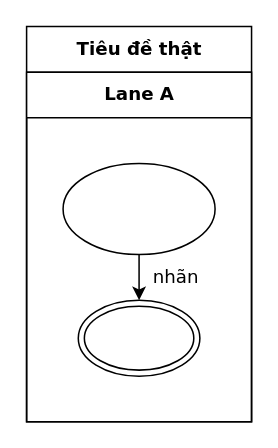
The diagram is 278 pixels wide and 448 high, and some of its shapes have lost their labels. Each missing label, with the centre of its shape:
"Vào dòng hai" goes at point (138, 208).
"Xong" goes at point (138, 337).
